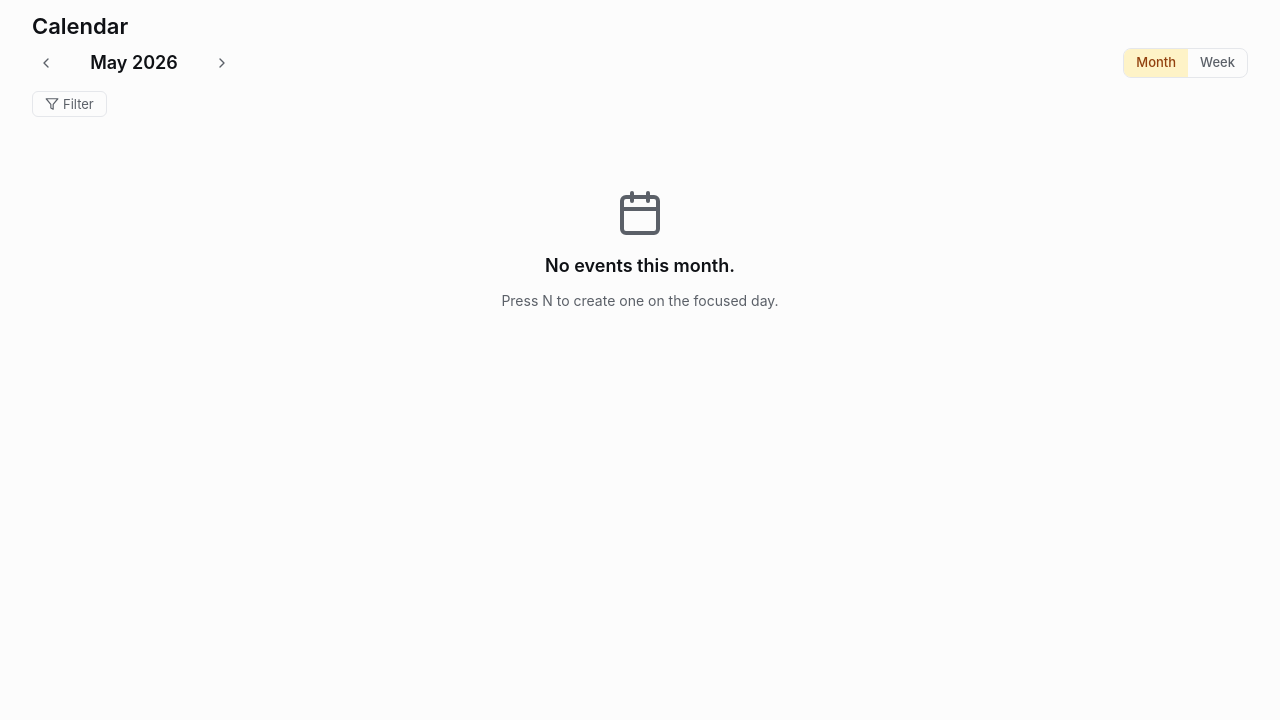
Test: CalendarMonthView — overdue rendering › navigating to April shows the overdue item with data-overdue attribute
// Navigate back to April via prev-month button
Click the button named "previous month" at (46, 63), box [32, 49, 60, 77]
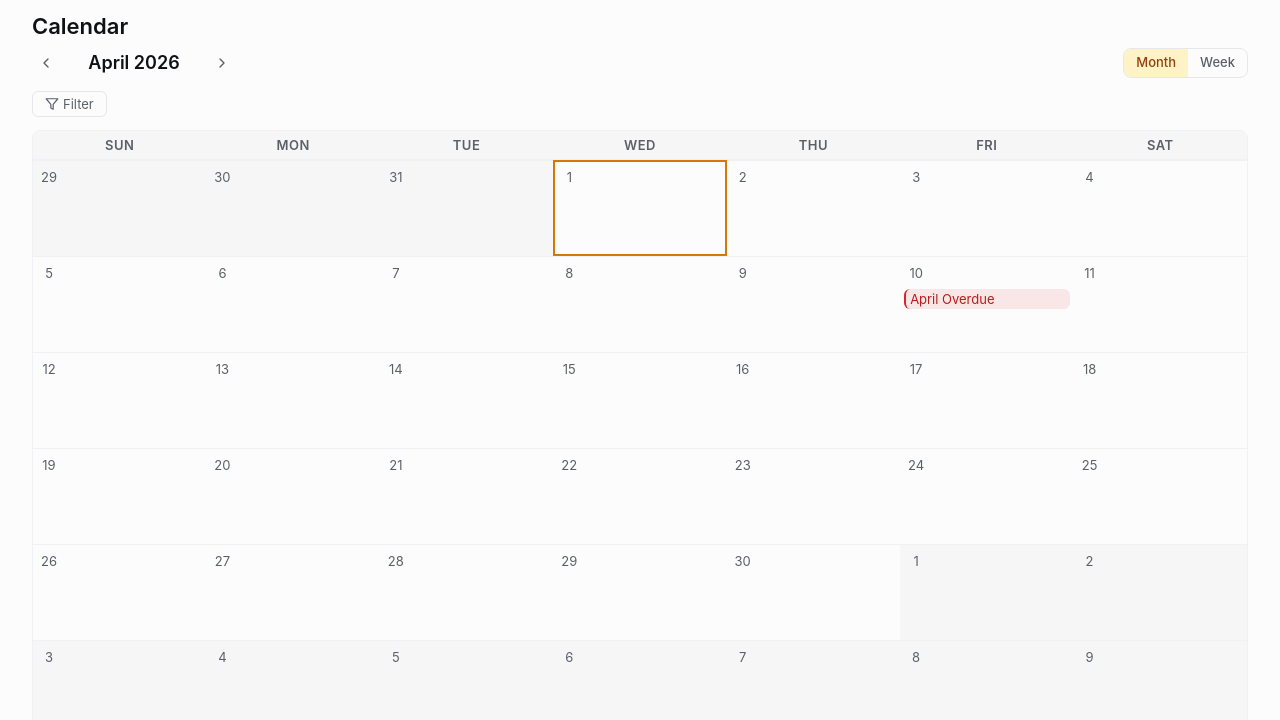
Expected: the text "April Overdue" is shown, [910, 290, 994, 306]
Expected: the button "April Overdue" is shown, [904, 288, 1070, 309]
